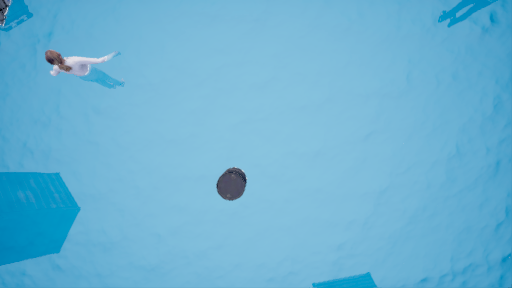person: (41, 50, 128, 92)
